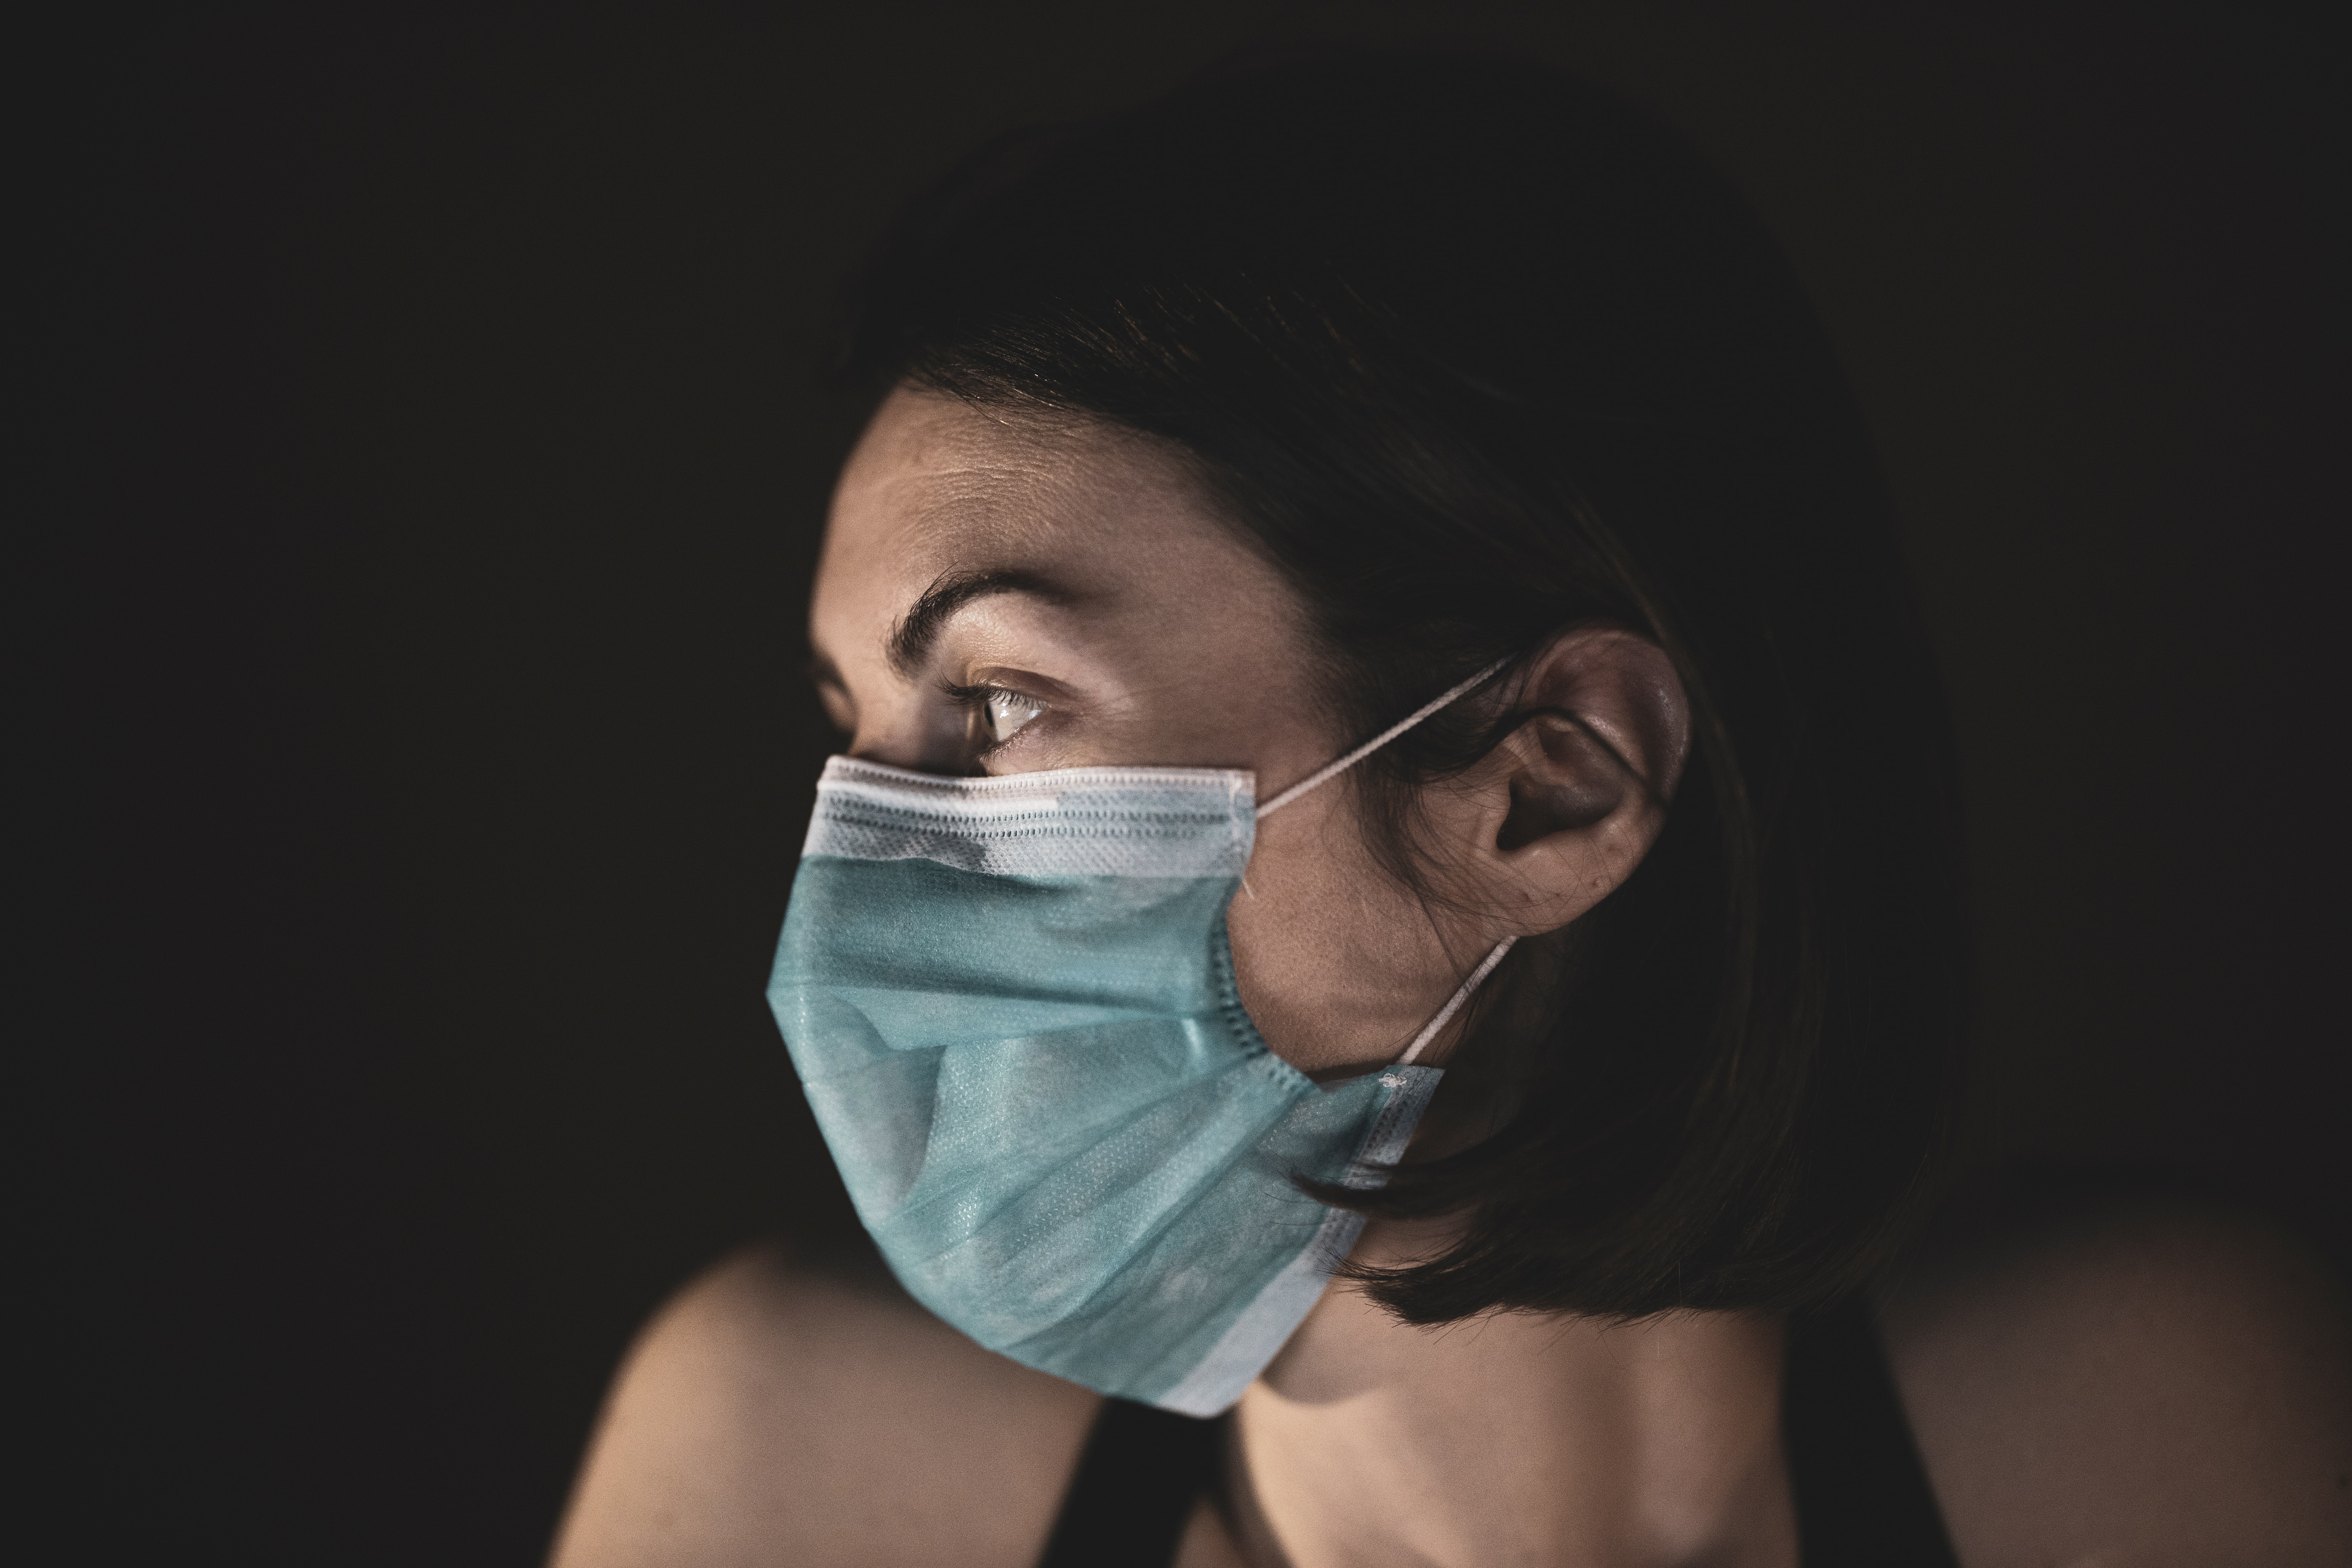mask: (761, 755, 1472, 1455)
person: (537, 193, 2301, 1568)
